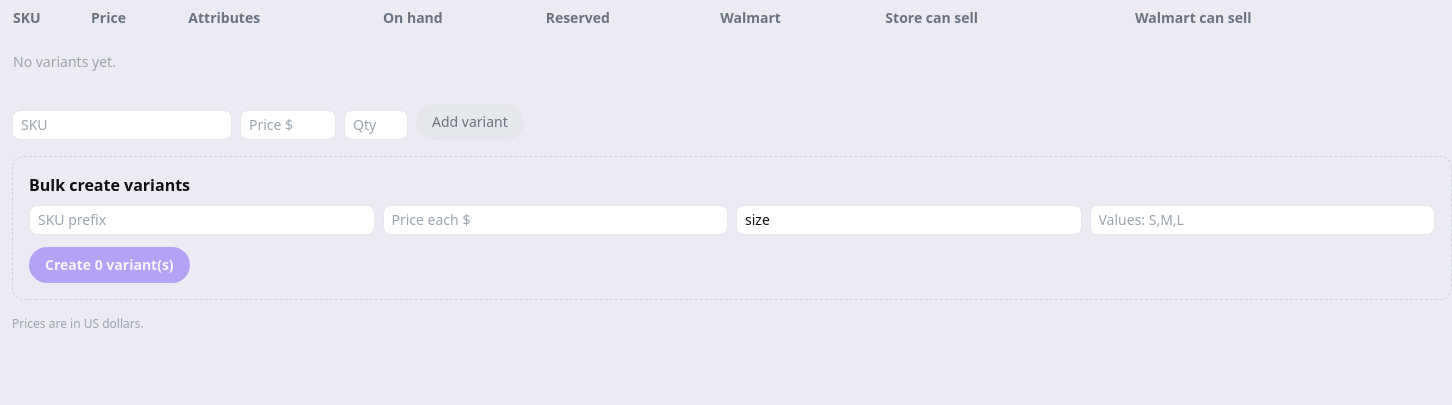
Test: VariantsTab › shows a bulk-row field error as "Row N <field>: hint"
Type "T-" into the field with placeholder "SKU prefix".
click(202, 220); type("T-")  # box [29, 205, 374, 235]
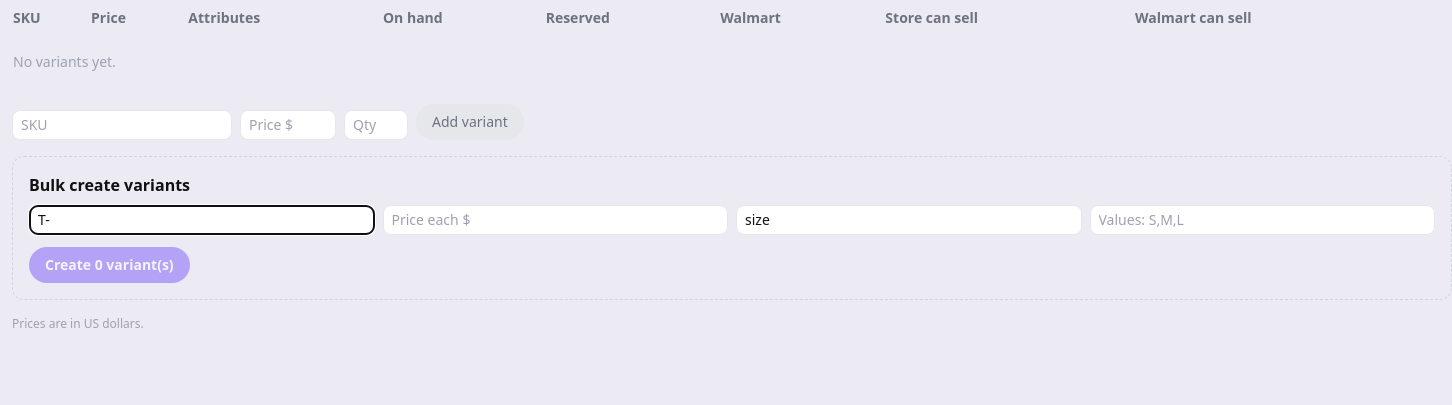
Type "1" into the field with placeholder "Price each $".
click(555, 220); type("1")  # box [382, 205, 728, 235]
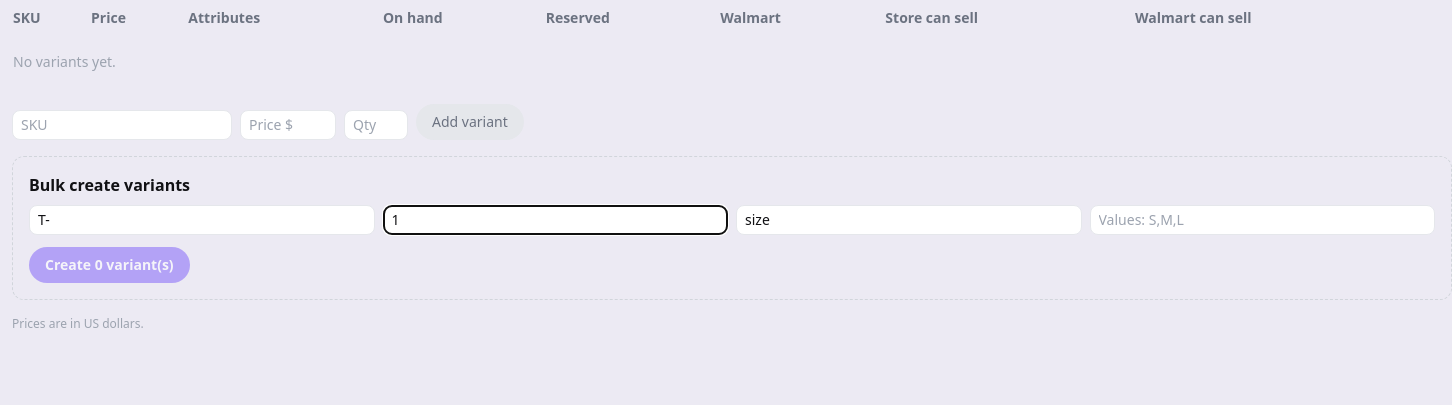
Type "s,m,s" into the field with placeholder "Values: S,M,L".
click(1262, 220); type("s,m,s")  # box [1090, 205, 1435, 235]
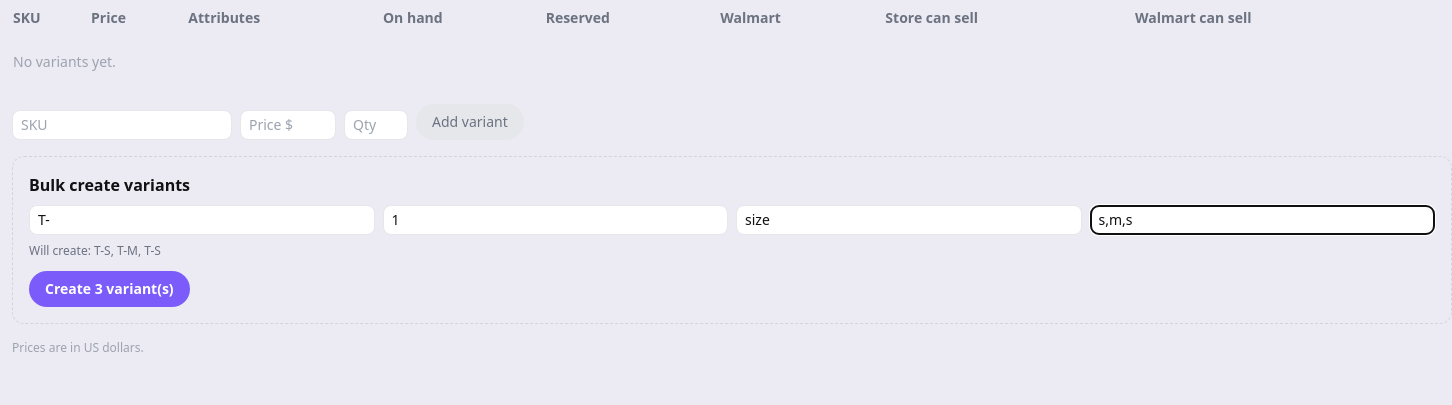
Click the button "Create 3 variant(s)".
click(109, 289)  # box [29, 271, 190, 307]
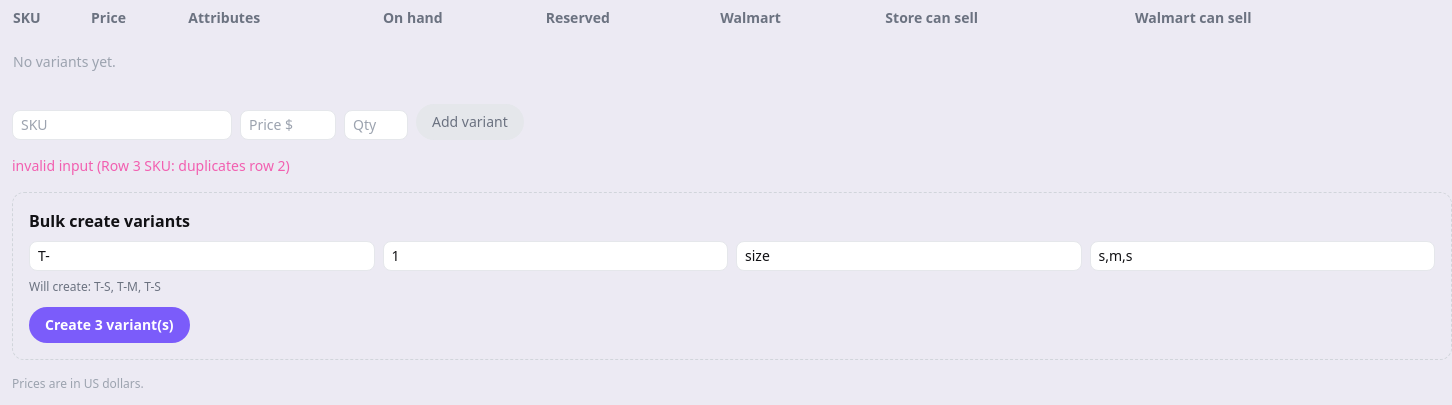
Now the text "invalid input (Row 3 SKU: duplicates row 2)" is shown, box [12, 156, 290, 175]
